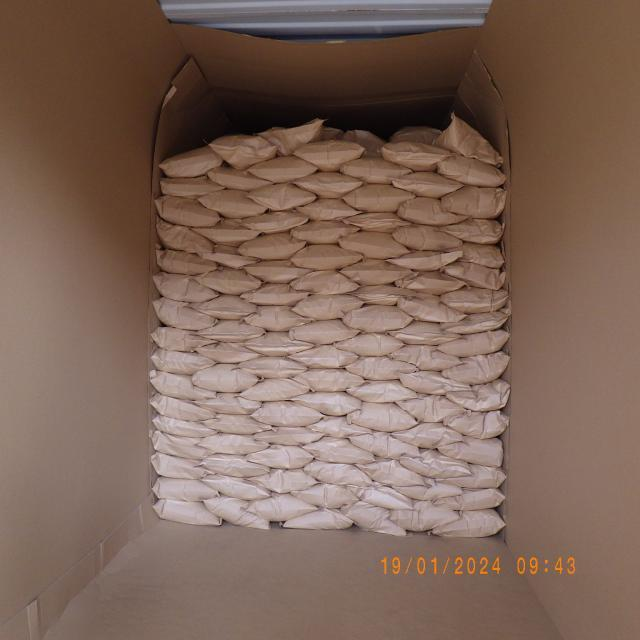gunny_bag: (434, 116, 502, 168), (258, 118, 326, 158), (340, 500, 406, 538), (441, 350, 510, 386), (208, 134, 276, 170), (437, 152, 506, 187), (203, 494, 270, 530), (292, 140, 364, 173), (396, 291, 468, 324), (347, 400, 418, 433), (348, 429, 421, 461), (390, 500, 460, 533), (156, 216, 216, 254), (354, 456, 425, 488), (398, 447, 471, 478), (431, 508, 506, 538), (446, 378, 512, 412), (152, 296, 216, 331), (198, 188, 268, 220), (380, 140, 450, 172), (159, 145, 224, 179), (152, 271, 218, 304), (438, 434, 504, 467), (436, 328, 511, 357), (342, 183, 412, 214), (244, 492, 316, 522), (341, 304, 413, 334), (392, 170, 464, 200), (154, 195, 219, 228), (442, 186, 508, 218), (338, 230, 408, 260), (245, 183, 317, 212), (246, 155, 318, 184), (150, 370, 217, 401), (290, 293, 364, 321), (388, 344, 462, 372), (286, 243, 362, 270), (386, 319, 462, 346), (391, 421, 464, 449), (193, 217, 261, 247), (346, 480, 414, 510), (398, 196, 466, 226), (293, 171, 363, 200), (152, 498, 224, 526), (240, 304, 312, 332), (302, 436, 374, 464), (339, 258, 411, 286), (150, 392, 217, 422), (192, 363, 259, 393), (238, 232, 307, 261), (192, 267, 263, 295), (341, 156, 412, 184), (442, 260, 506, 291), (397, 370, 473, 396), (396, 394, 464, 423), (188, 293, 258, 321), (303, 460, 373, 488), (392, 224, 462, 252), (344, 356, 418, 382), (151, 430, 215, 460), (444, 410, 508, 440), (290, 482, 358, 510), (440, 286, 508, 314), (290, 368, 366, 393), (201, 474, 271, 501), (250, 401, 322, 427), (290, 390, 362, 416), (288, 344, 360, 370), (346, 378, 418, 404), (244, 331, 315, 357), (288, 318, 359, 344), (289, 220, 362, 245), (151, 348, 216, 376), (396, 270, 466, 296), (385, 249, 463, 272), (155, 248, 219, 276), (246, 444, 314, 470), (200, 453, 270, 478), (290, 270, 360, 295), (392, 476, 462, 501), (152, 476, 218, 502), (206, 166, 272, 192), (192, 392, 263, 416), (239, 378, 310, 402), (248, 468, 316, 493), (334, 333, 404, 357), (437, 219, 504, 244), (444, 463, 508, 489), (240, 282, 309, 306), (242, 260, 311, 284), (150, 452, 211, 479), (441, 310, 509, 334), (280, 508, 354, 530), (200, 432, 270, 455), (243, 210, 310, 234), (152, 327, 216, 352), (198, 320, 264, 344), (236, 356, 308, 378), (339, 211, 411, 233), (434, 488, 506, 510), (306, 415, 374, 438), (202, 413, 272, 435), (152, 414, 216, 438), (446, 242, 505, 268), (296, 198, 362, 221), (159, 177, 224, 200), (198, 244, 259, 268), (348, 284, 414, 306), (196, 342, 261, 364), (253, 426, 323, 446)
